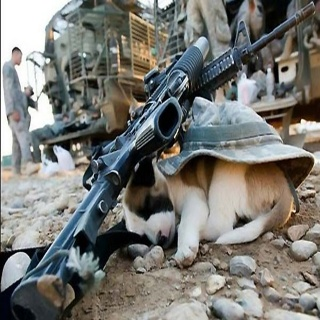rifle: (8, 35, 212, 320)
